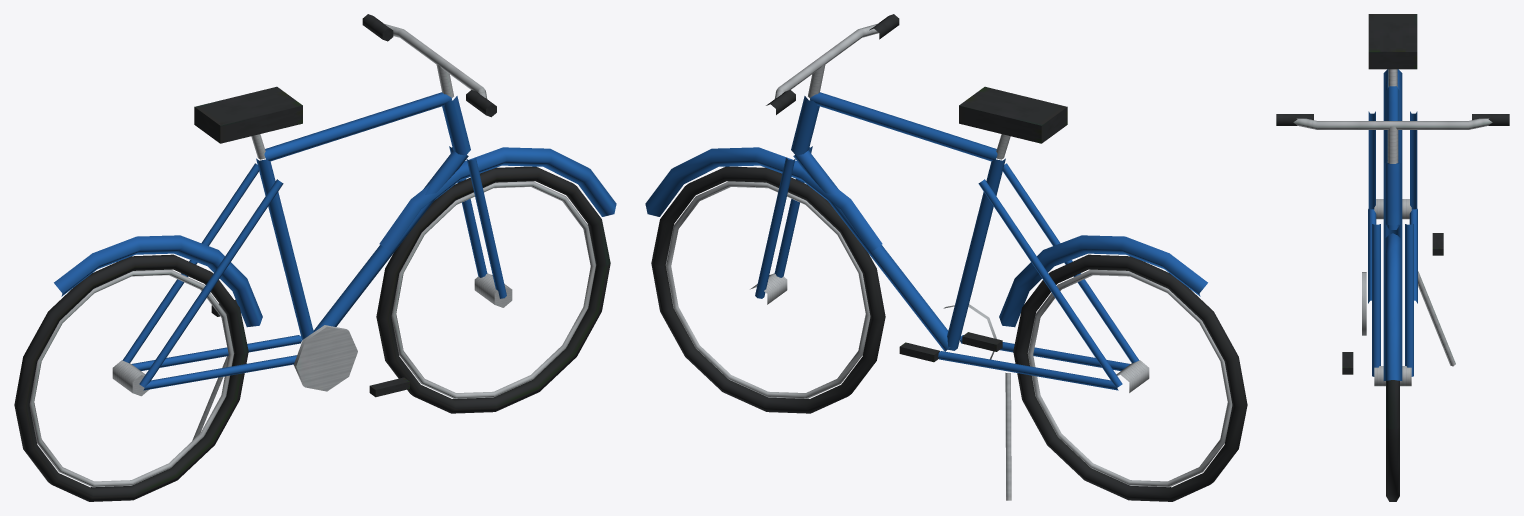
File: velo_lod1.glb
3 renders of one model, left to right at view 1: azimuth 30°, elevation 25°; view 2: azimuth 150°, elevation 25°; view 3: azimuth 270°, elevation 25°, orthographic. The views are drawn at different scales.
Visible parts, largest first — view 1: velo; view 2: velo; view 3: velo.
Boxes of the visible parts, left/top/right/bottom form: velo: left=14, top=14, right=616, bottom=501; velo: left=645, top=14, right=1247, bottom=501; velo: left=1276, top=14, right=1509, bottom=501.
Size of the model in its own units: 1.74 by 1.02 by 0.62.
Materials: 1 (1 with a texture image).
